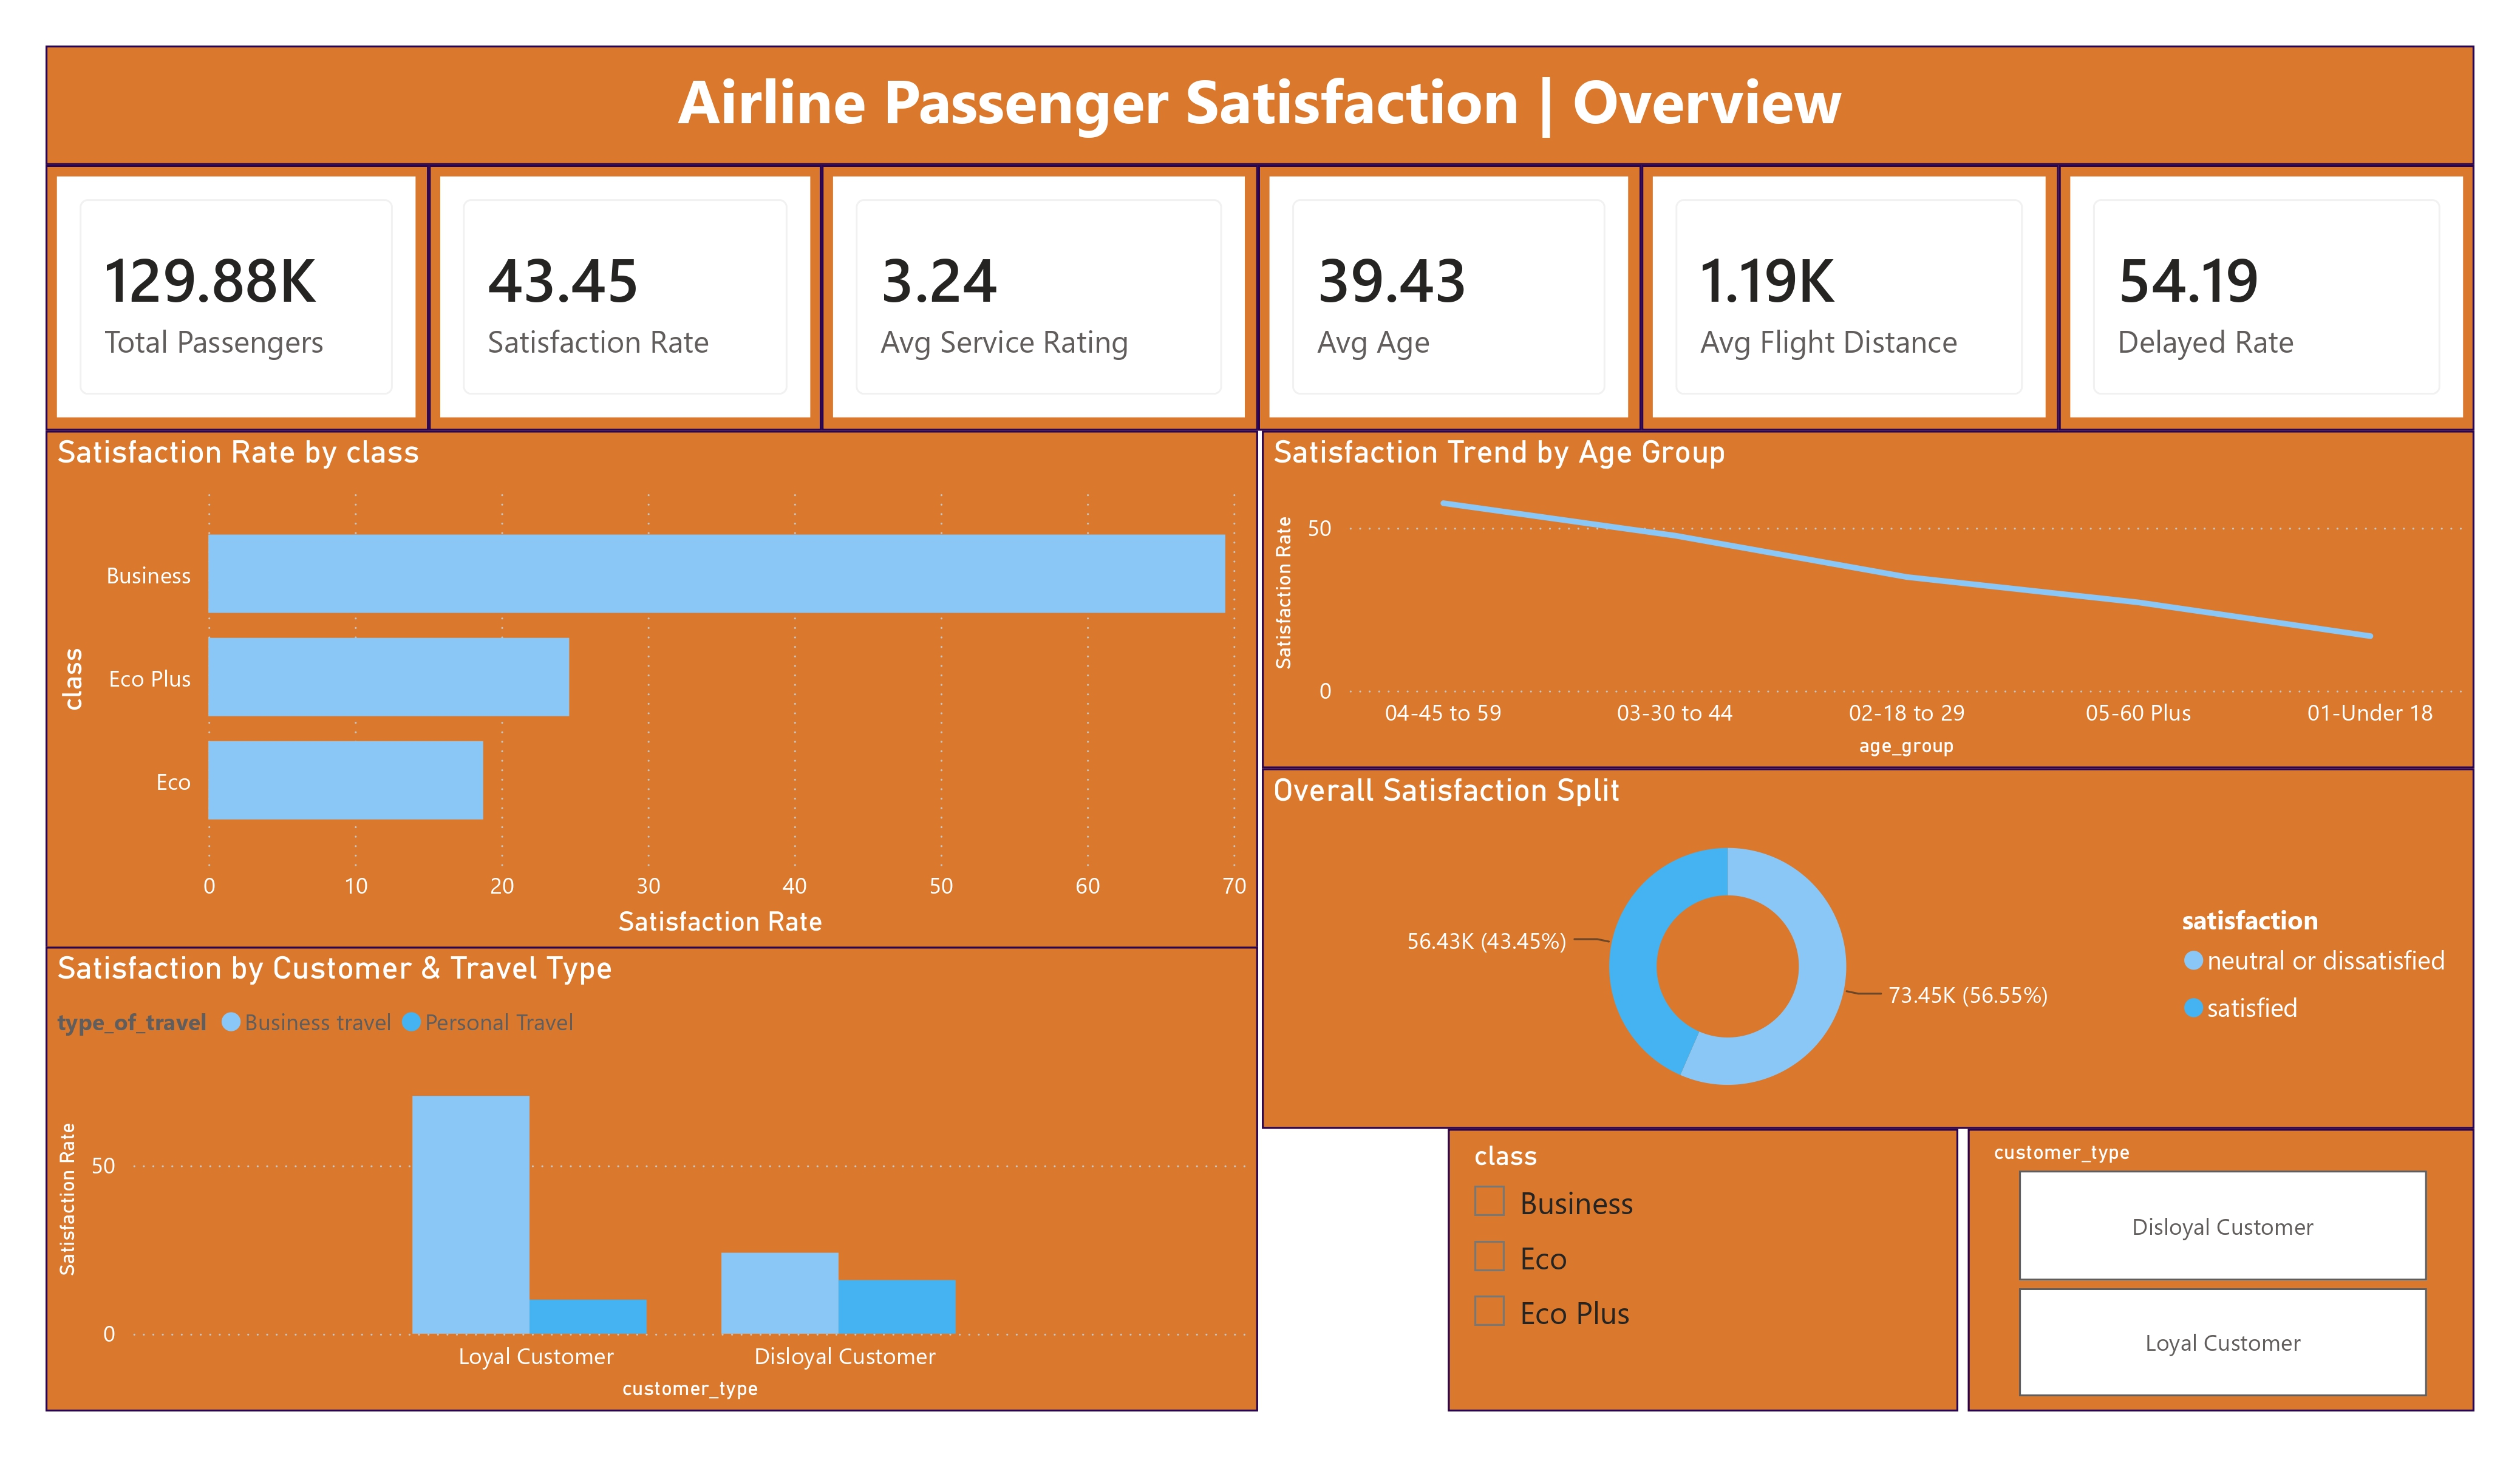

What the dashboard file says about the page in this screenshot:
{"tool":"powerbi","page":{"name":"Satisfaction Overview","canvas":[1280,720],"ordinal":0},"visuals":[{"type":"textbox","box":[0,0,1280.4,63.1],"z":0},{"type":"cardVisual","fields":{"Data":["airline_project airline_satisfaction.Total Passengers"]},"box":[0,63.1,201.8,139.8],"z":1000},{"type":"cardVisual","fields":{"Data":["airline_project airline_satisfaction.Avg Age"]},"box":[639.1,63.1,201.8,139.8],"z":2000},{"type":"cardVisual","fields":{"Data":["airline_project airline_satisfaction.Satisfaction Rate"]},"box":[201.8,63.1,207.4,139.8],"z":3000},{"type":"cardVisual","fields":{"Data":["airline_project airline_satisfaction.Avg Service Rating"]},"box":[409.1,63.1,229.9,139.8],"z":4000},{"type":"cardVisual","fields":{"Data":["airline_project airline_satisfaction.Delayed Rate"]},"box":[1060.6,63.1,219.8,139.8],"z":5000},{"type":"cardVisual","fields":{"Data":["airline_project airline_satisfaction.Avg Flight Distance"]},"box":[840.8,63.1,219.8,139.8],"z":6000},{"type":"clusteredBarChart","fields":{"Category":["airline_project airline_satisfaction.class"],"Y":["airline_project airline_satisfaction.Satisfaction Rate"]},"box":[0,202.7,639.4,272.9],"z":7000},{"type":"clusteredColumnChart","title":"Satisfaction by Customer & Travel Type","fields":{"Category":["airline_project airline_satisfaction.customer_type"],"Series":["airline_project airline_satisfaction.type_of_travel"],"Y":["airline_project airline_satisfaction.Satisfaction Rate"]},"box":[0,475.2,639.4,245.1],"z":8000},{"type":"lineChart","title":"Satisfaction Trend by Age Group","fields":{"Y":["airline_project airline_satisfaction.Satisfaction Rate"],"Category":["airline_project airline_satisfaction.age_group"]},"box":[640.6,202.8,639.4,177.9],"z":9000},{"type":"donutChart","title":"Overall Satisfaction Split","fields":{"Category":["airline_project airline_satisfaction.satisfaction"],"Y":["airline_project airline_satisfaction.Total Passengers"]},"box":[640.9,380.5,639.4,190.3],"z":10000},{"type":"slicer","fields":{"Values":["airline_project airline_satisfaction.class"]},"box":[738.9,571,268.7,149.3],"z":11000},{"type":"slicer","fields":{"Values":["airline_project airline_satisfaction.customer_type"]},"box":[1012.6,571,267.5,149.3],"z":12000}]}

Visuals, with their boxes in screenshot pixels (x1, y1, x2, y2):
textbox: (66, 39, 2464, 157)
cardVisual - airline_project airline_satisfaction.Total Passengers: (66, 157, 443, 419)
cardVisual - airline_project airline_satisfaction.Avg Age: (1262, 157, 1640, 419)
cardVisual - airline_project airline_satisfaction.Satisfaction Rate: (443, 157, 832, 419)
cardVisual - airline_project airline_satisfaction.Avg Service Rating: (832, 157, 1262, 419)
cardVisual - airline_project airline_satisfaction.Delayed Rate: (2052, 157, 2464, 419)
cardVisual - airline_project airline_satisfaction.Avg Flight Distance: (1640, 157, 2052, 419)
clusteredBarChart - airline_project airline_satisfaction.class x airline_project airline_satisfaction.Satisfaction Rate: (66, 419, 1263, 930)
"Satisfaction by Customer & Travel Type" clusteredColumnChart: (66, 929, 1263, 1388)
"Satisfaction Trend by Age Group" lineChart: (1265, 419, 2463, 752)
"Overall Satisfaction Split" donutChart: (1266, 752, 2464, 1108)
slicer - airline_project airline_satisfaction.class: (1449, 1109, 1953, 1388)
slicer - airline_project airline_satisfaction.customer_type: (1962, 1109, 2463, 1388)
